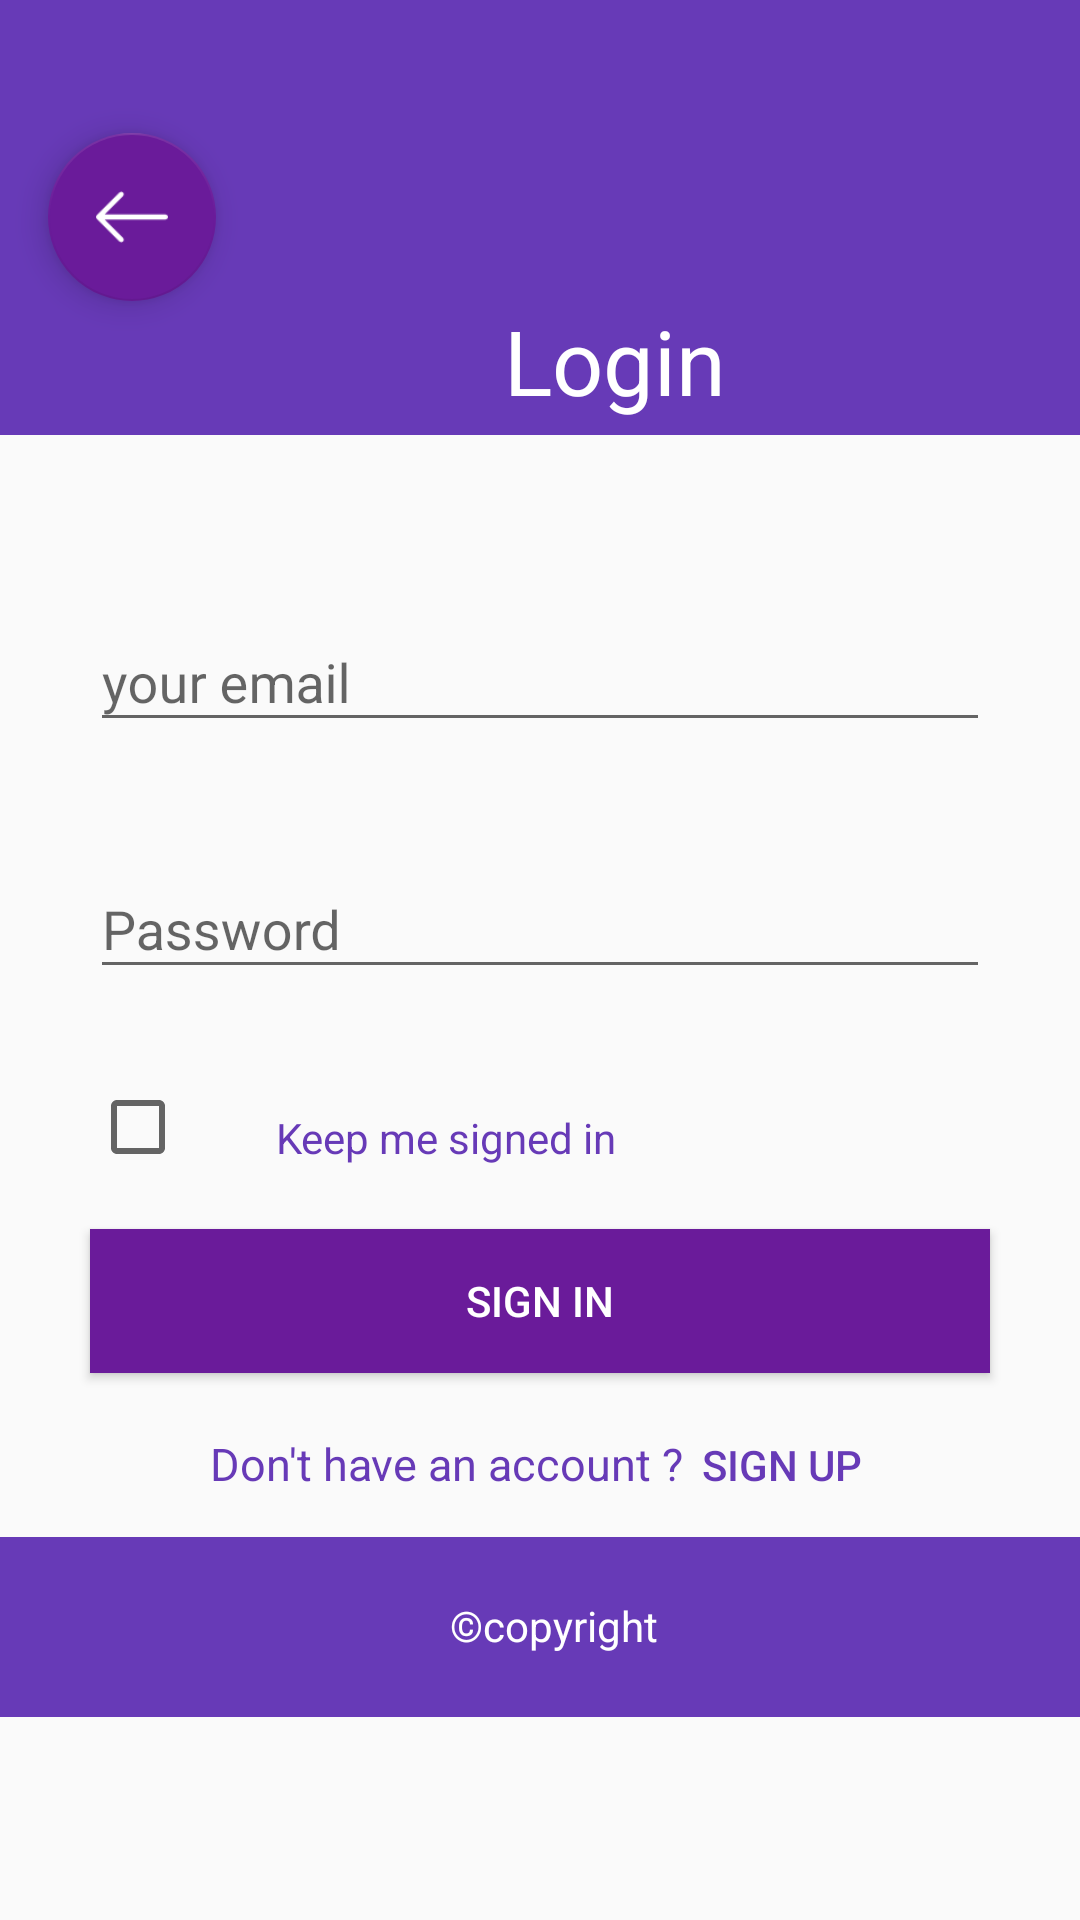

Icons on this 1080*1920 Android screen, each with its box as box=[x1, y1, x2, y2]:
left arrow: box=[48, 133, 216, 301]
